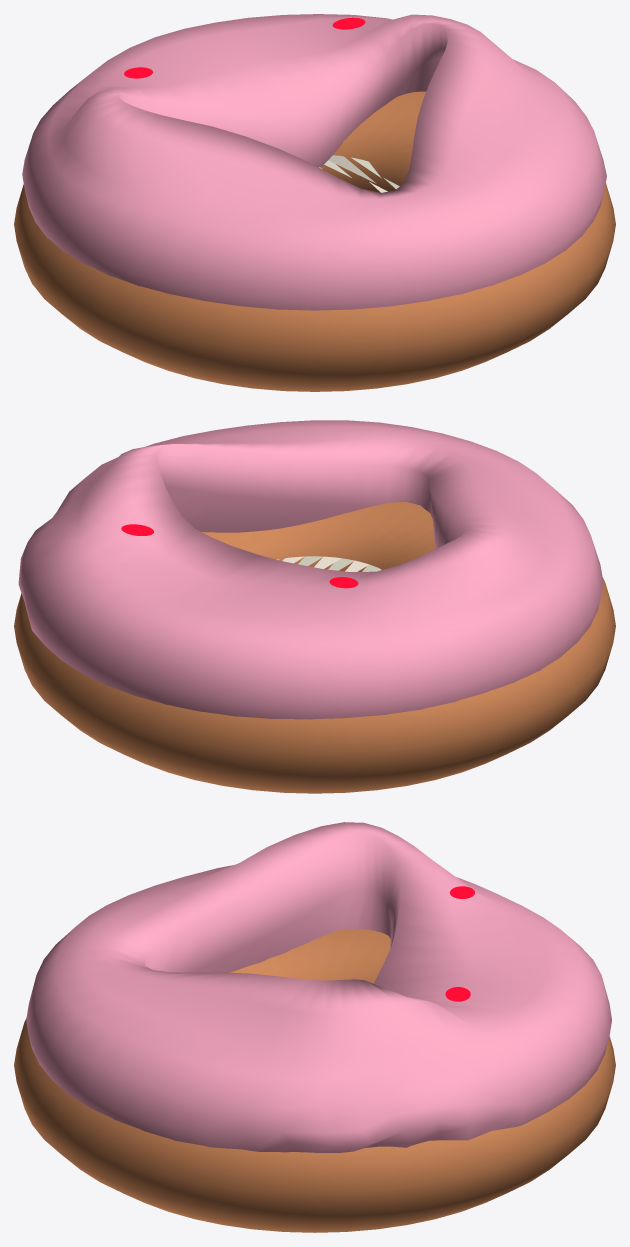
File: evilDonut.fbx
3 views of the same model, one above another, from view 1: azimuth 30°, elevation 25°; view 2: azimuth 150°, elevation 25°; view 3: azimuth 270°, elevation 25° (orthographic).
Parts seen in each view (by area): view 1: Torus.011, Torus.002; view 2: Torus.011, Torus.002; view 3: Torus.011, Torus.002.
Part boxes in pixels (bbox=[...]): Torus.011: bbox=[22, 14, 606, 310]; Torus.002: bbox=[14, 91, 615, 391]; Torus.011: bbox=[18, 420, 603, 719]; Torus.002: bbox=[14, 502, 615, 793]; Torus.011: bbox=[26, 822, 611, 1152]; Torus.002: bbox=[14, 929, 615, 1232].
Bounding box in the file's own units: 250 × 105 × 250.
